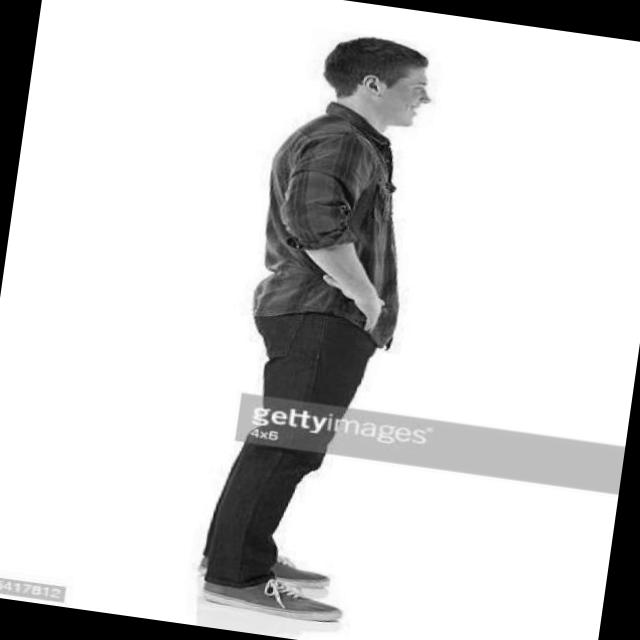person: (185, 5, 442, 640)
